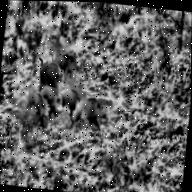boar: (23, 82, 52, 126), (70, 96, 101, 136), (40, 80, 69, 117), (39, 54, 67, 90), (55, 45, 78, 71)
